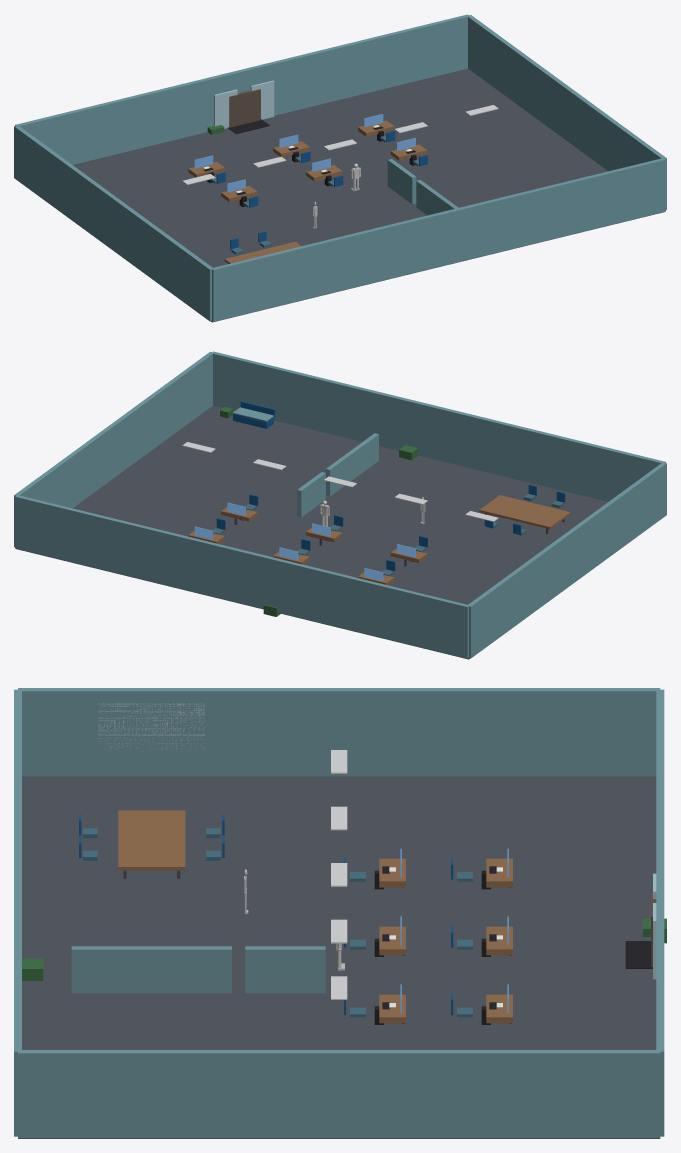
The model's file is Workplace_Level.fbx.
3 renders of one model, top to bottom at view 1: azimuth 30°, elevation 25°; view 2: azimuth 150°, elevation 25°; view 3: azimuth 270°, elevation 25°, orthographic. The views are drawn at different scales.
Parts seen in each view (by area): view 1: WF_Floor, WF_Wall_N, WF_Wall_S, WF_Wall_W, WF_Wall_E, WF_Door, WF_Partition_SE, WF_Partition_E, WF_GlassW_L, WF_GlassW_R, WF_ConfTable; view 2: WF_Floor, WF_Wall_S, WF_Wall_N, WF_Wall_W, WF_Wall_E, WF_ConfTable, WF_Partition_E, WF_Partition_SE; view 3: WF_Floor, WF_Wall_E, WF_Wall_W, WF_Partition_E, WF_ConfTable, WF_Partition_SE, WF_Wall_S, WF_Wall_N, WF_Whiteboard, WF_EntryMat, WF_DeskTop_0, WF_DeskTop_1 (+4 smaller).
Boxes of the visible parts, x1=… form: WF_Floor: x1=73, y1=68, x2=664, y2=322; WF_Wall_N: x1=211, y1=158, x2=665, y2=321; WF_Wall_S: x1=15, y1=14, x2=468, y2=164; WF_Wall_W: x1=14, y1=126, x2=212, y2=321; WF_Wall_E: x1=468, y1=15, x2=666, y2=210; WF_Door: x1=229, y1=89, x2=260, y2=127; WF_Partition_SE: x1=387, y1=159, x2=416, y2=204; WF_Partition_E: x1=416, y1=180, x2=458, y2=215; WF_GlassW_L: x1=214, y1=89, x2=237, y2=128; WF_GlassW_R: x1=250, y1=80, x2=274, y2=119; WF_ConfTable: x1=224, y1=241, x2=301, y2=263; WF_Floor: x1=16, y1=405, x2=607, y2=659; WF_Wall_S: x1=15, y1=495, x2=469, y2=658; WF_Wall_N: x1=211, y1=351, x2=665, y2=501; WF_Wall_W: x1=468, y1=462, x2=666, y2=658; WF_Wall_E: x1=14, y1=352, x2=212, y2=547; WF_ConfTable: x1=479, y1=495, x2=570, y2=529; WF_Partition_E: x1=325, y1=433, x2=378, y2=496; WF_Partition_SE: x1=297, y1=472, x2=325, y2=517; WF_Floor: x1=18, y1=776, x2=660, y2=1138; WF_Wall_E: x1=18, y1=1050, x2=660, y2=1138; WF_Wall_W: x1=18, y1=688, x2=660, y2=776; WF_Partition_E: x1=71, y1=946, x2=231, y2=993; WF_ConfTable: x1=118, y1=810, x2=185, y2=870; WF_Partition_SE: x1=245, y1=946, x2=325, y2=993; WF_Wall_S: x1=656, y1=689, x2=664, y2=1136; WF_Wall_N: x1=14, y1=689, x2=21, y2=1136; WF_Whiteboard: x1=98, y1=703, x2=205, y2=751; WF_EntryMat: x1=625, y1=941, x2=652, y2=968; WF_DeskTop_0: x1=486, y1=858, x2=512, y2=887; WF_DeskTop_1: x1=486, y1=926, x2=512, y2=955.
Size of what is drawn, in the model's own units: 3230 by 2440 by 377.
